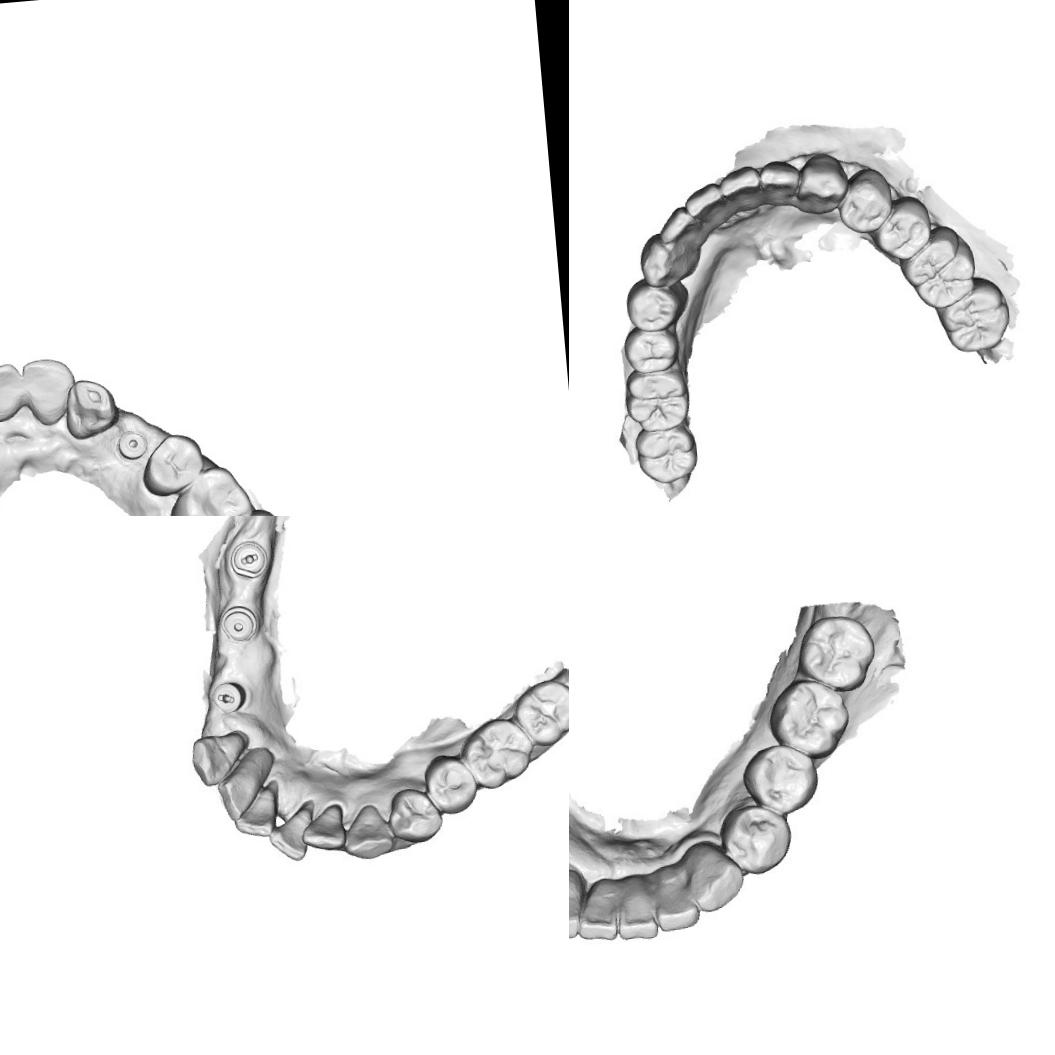canine: (684, 839, 745, 916), (61, 376, 120, 442), (636, 232, 700, 290), (188, 730, 253, 787), (795, 152, 848, 220), (342, 804, 398, 863)
implant: (113, 426, 150, 461), (222, 604, 256, 642)
implant_minus: (229, 538, 270, 583), (210, 681, 247, 713)
incisor: (19, 355, 78, 428), (216, 756, 270, 822), (648, 863, 702, 929), (616, 870, 660, 938), (580, 873, 622, 940), (758, 156, 804, 213), (265, 806, 310, 863), (230, 784, 276, 838), (302, 800, 346, 855), (655, 204, 707, 247), (685, 180, 728, 225), (720, 165, 760, 211), (0, 359, 25, 426), (569, 865, 587, 934)
molar: (897, 226, 981, 312), (770, 679, 852, 760), (936, 276, 1014, 356), (798, 614, 875, 694), (458, 716, 534, 790), (163, 461, 258, 516), (622, 368, 694, 432), (632, 426, 702, 488), (511, 677, 569, 747)
premolar: (741, 738, 824, 818), (720, 798, 798, 878), (136, 430, 207, 498), (871, 193, 934, 263), (623, 276, 690, 332), (384, 781, 443, 844), (422, 754, 478, 818), (836, 174, 893, 234), (621, 323, 686, 375)
